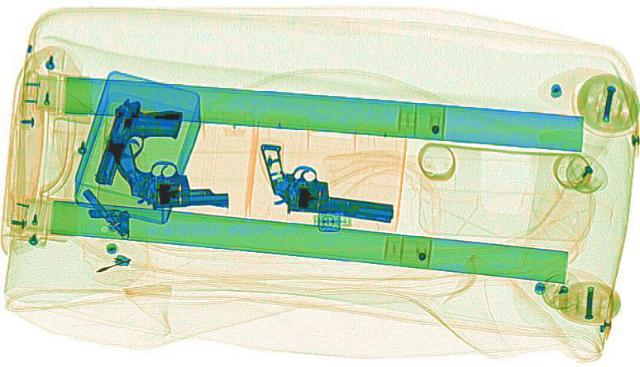Gun: (233, 142, 414, 221), (89, 96, 189, 187), (106, 138, 230, 209)
